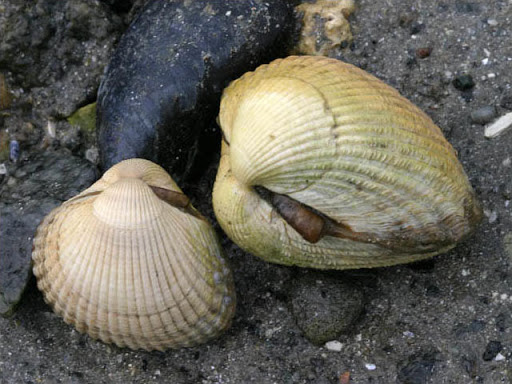cockle: (213, 48, 483, 271), (27, 154, 239, 351)
